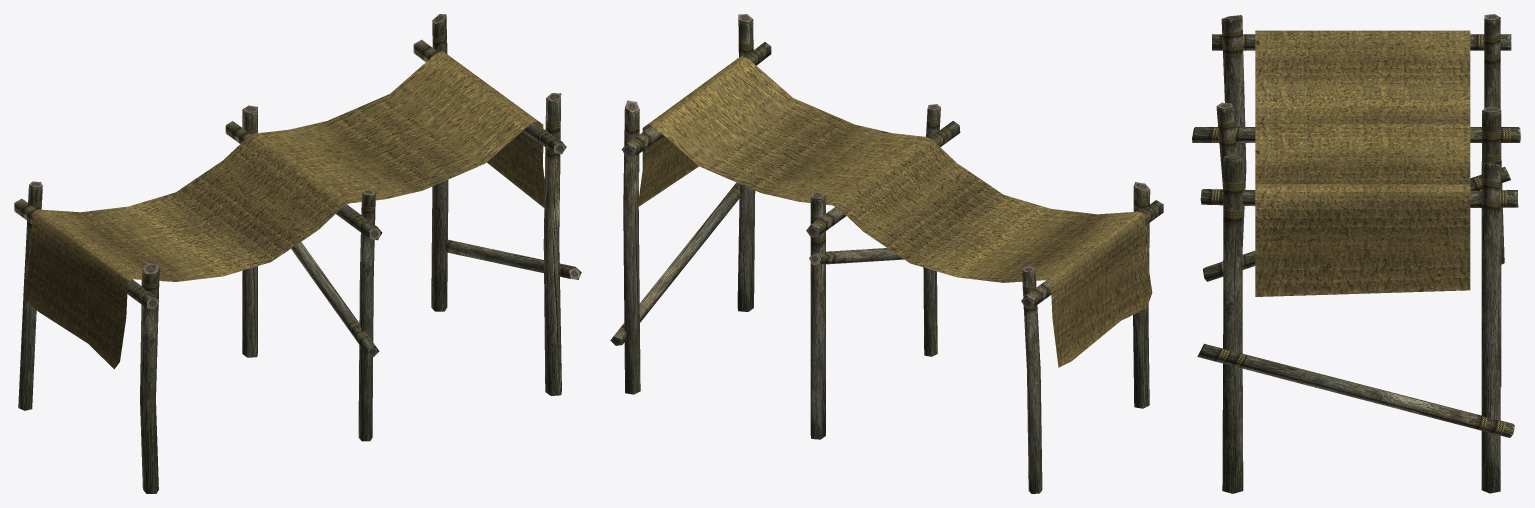
The model's file is thing_hake_04.fbx.
The picture shows the model from 3 angles, left to right: view 1: azimuth 30°, elevation 25°; view 2: azimuth 150°, elevation 25°; view 3: azimuth 270°, elevation 25°; orthographic projection. The views are drawn at different scales.
Visible parts, largest first — view 1: thing_hake_04; view 2: thing_hake_04; view 3: thing_hake_04.
Boxes of the visible parts, box(x1,y1,x2,y2) form: thing_hake_04: box(14, 14, 581, 493); thing_hake_04: box(610, 14, 1163, 493); thing_hake_04: box(1192, 14, 1520, 493).
Bounding box in the file's own units: 8 × 5.2 × 4.63.
